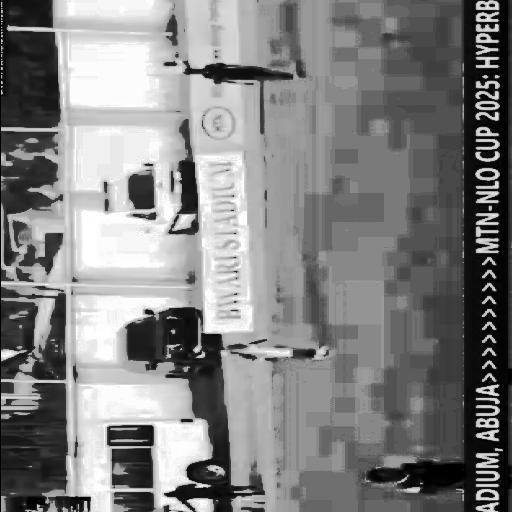team1: (208, 338, 330, 364)
team2: (341, 453, 467, 499), (164, 55, 314, 86)
